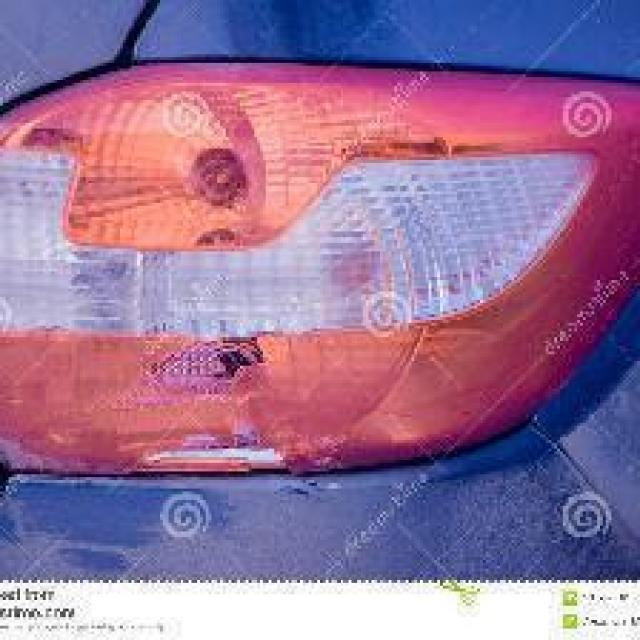damaged: (134, 300, 340, 474)
